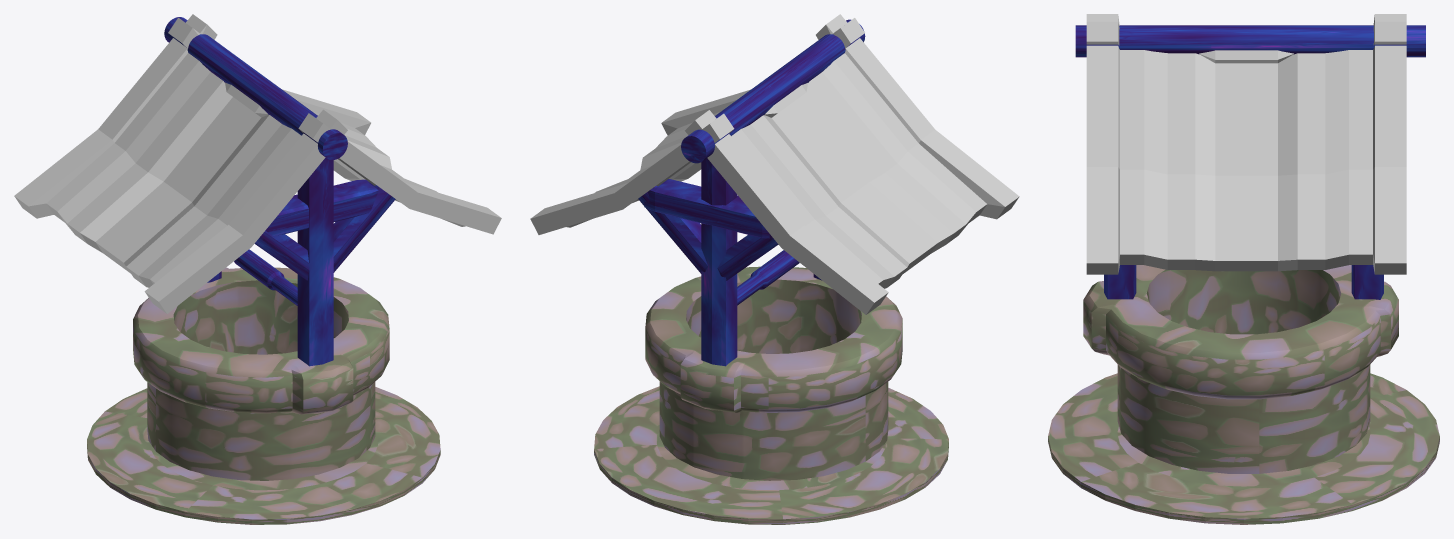
The model's file is Well.fbx.
3 renders of one model, left to right at view 1: azimuth 30°, elevation 25°; view 2: azimuth 150°, elevation 25°; view 3: azimuth 270°, elevation 25°, orthographic. The views are drawn at different scales.
Visible parts, largest first — view 1: Cube.003, Cylinder.001, Cylinder, Cube.002, Cylinder.004; view 2: Cube.003, Cylinder.001, Cylinder, Cube.002, Cylinder.004; view 3: Cube.003, Cylinder.001, Cylinder, Cylinder.004, Cube.002.
Boxes of the visible parts, x1,y1,x2,y2 form: Cube.003: [14, 14, 501, 313]; Cylinder.001: [133, 267, 389, 480]; Cylinder: [87, 387, 440, 524]; Cube.002: [207, 157, 395, 366]; Cylinder.004: [164, 17, 347, 305]; Cube.003: [530, 14, 1019, 314]; Cylinder.001: [645, 266, 902, 480]; Cylinder: [594, 386, 948, 524]; Cube.002: [638, 158, 821, 366]; Cylinder.004: [681, 19, 865, 305]; Cube.003: [1086, 14, 1406, 274]; Cylinder.001: [1083, 265, 1398, 473]; Cylinder: [1048, 373, 1439, 524]; Cylinder.004: [1075, 25, 1425, 57]; Cube.002: [1104, 265, 1383, 299].
Bounding box in the file's own units: 176 × 187 × 157.
